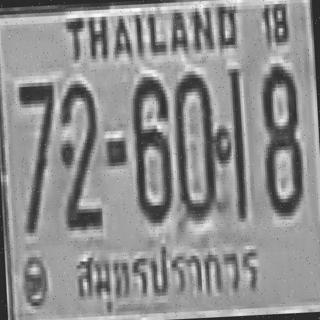N00: (172, 69, 216, 216)
N01: (227, 62, 246, 219)
N02: (55, 76, 101, 228)
N06: (130, 73, 172, 220)
N07: (16, 79, 59, 230)
N08: (258, 59, 303, 214)
P57: (71, 228, 263, 312)
